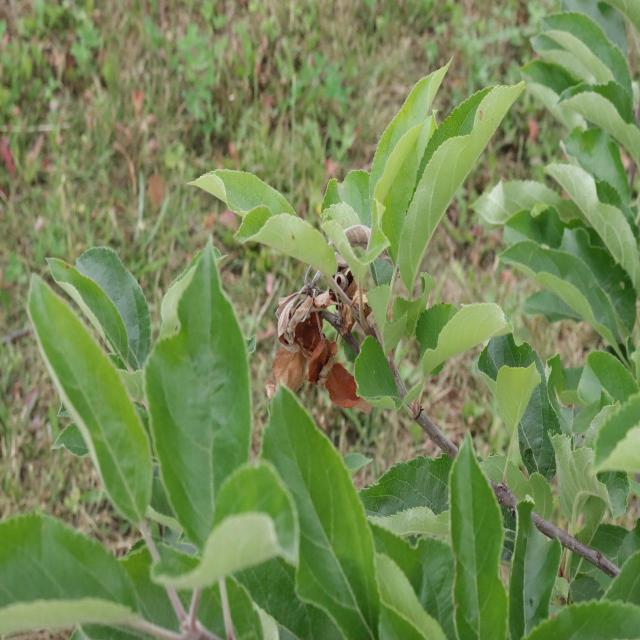-FireBlight-: (270, 293, 366, 408)
